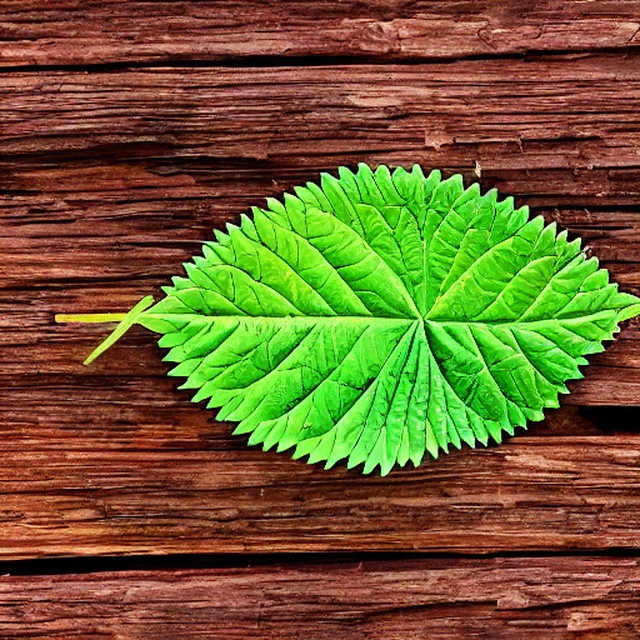Marijuana Leaf: (54, 160, 638, 477)
